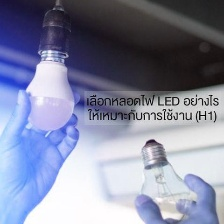light_bulb: (130, 132, 197, 224), (21, 43, 77, 140)
